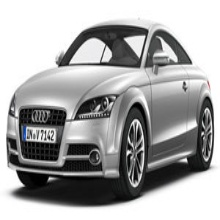no damage: (6, 20, 215, 199)
